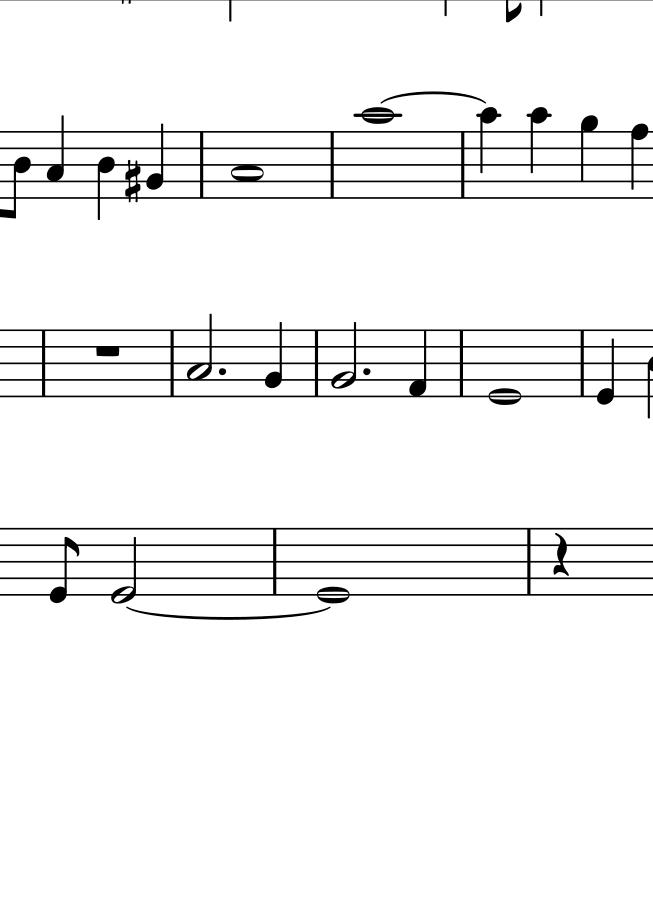1_0: (486, 325, 522, 410), (315, 524, 352, 604)
1_10: (358, 107, 400, 201)
1_3: (230, 128, 265, 202)
2_0: (109, 526, 141, 603)
2_2: (185, 310, 215, 398), (330, 320, 360, 398)
4_0: (595, 327, 617, 407)
4_1: (405, 326, 430, 400)
4_10: (475, 107, 503, 200), (527, 106, 552, 201)
4_2: (145, 120, 167, 200), (264, 320, 286, 399)
4_3: (45, 114, 68, 201)
4_4: (94, 130, 116, 219)
4_8: (627, 121, 650, 204)
4_9: (577, 115, 600, 201)
8_0: (47, 527, 82, 601)
8_4: (1, 128, 31, 221)
Rests1: (92, 343, 126, 363)
Rests4: (550, 531, 570, 577)
Sharp: (122, 154, 145, 206)
Single_barline: (574, 328, 592, 397), (193, 131, 210, 197), (165, 330, 181, 397), (309, 330, 325, 397), (453, 330, 469, 397), (521, 528, 537, 595), (455, 132, 471, 198), (35, 330, 51, 396), (325, 131, 340, 198), (267, 529, 282, 594)
Slur: (127, 608, 333, 620), (379, 88, 488, 108)
dot: (360, 366, 376, 377), (215, 366, 229, 377)
